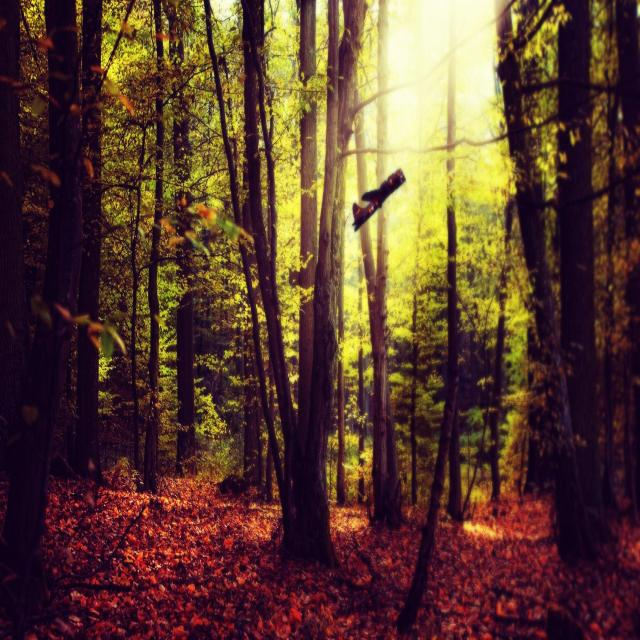airplane: (351, 167, 406, 232)
